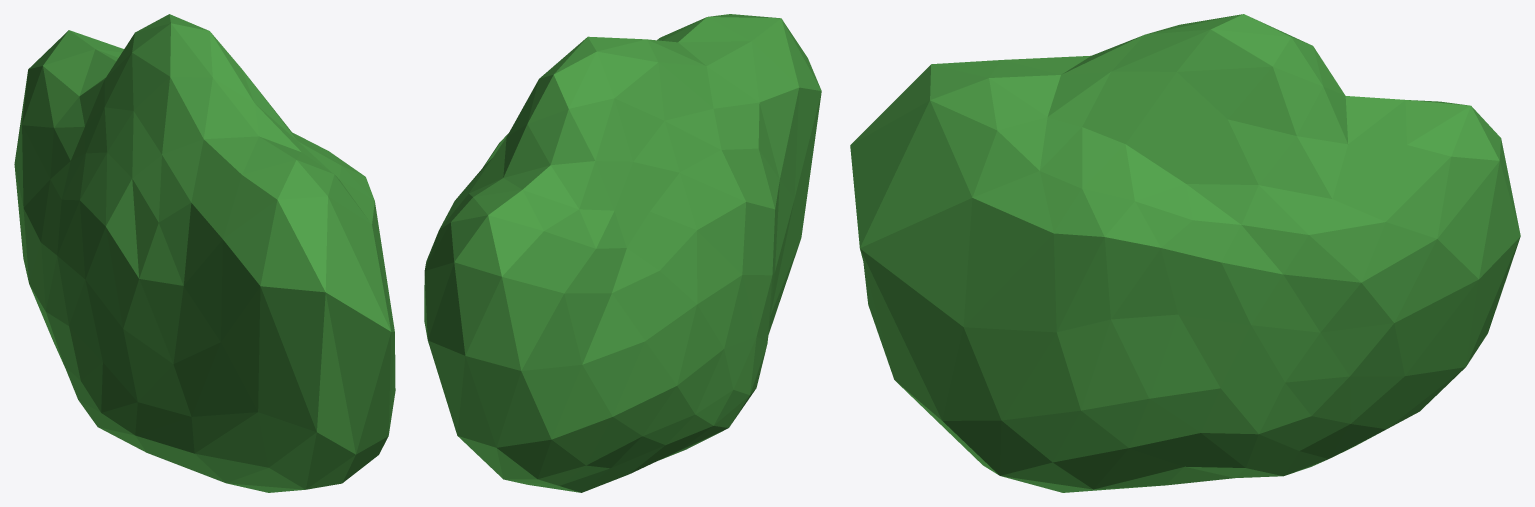
File: bush_1.fbx
3 views of the same model, side by side, from view 1: azimuth 30°, elevation 25°; view 2: azimuth 150°, elevation 25°; view 3: azimuth 270°, elevation 25° (orthographic). The views are drawn at different scales.
Visible parts, largest first — view 1: Icosphere; view 2: Icosphere; view 3: Icosphere.
Boxes of the visible parts, <box> form: Icosphere: <box>14,14,395,492</box>; Icosphere: <box>424,14,821,492</box>; Icosphere: <box>850,14,1520,492</box>.
Size of the model in its own units: 213 by 329 by 447.
